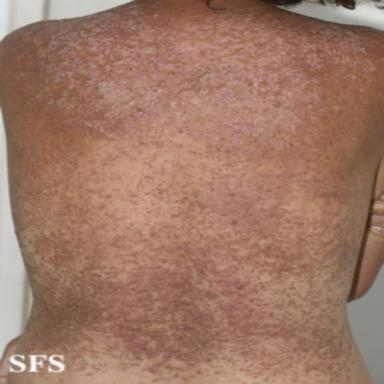Darier_s-Disease: (2, 0, 382, 384)
